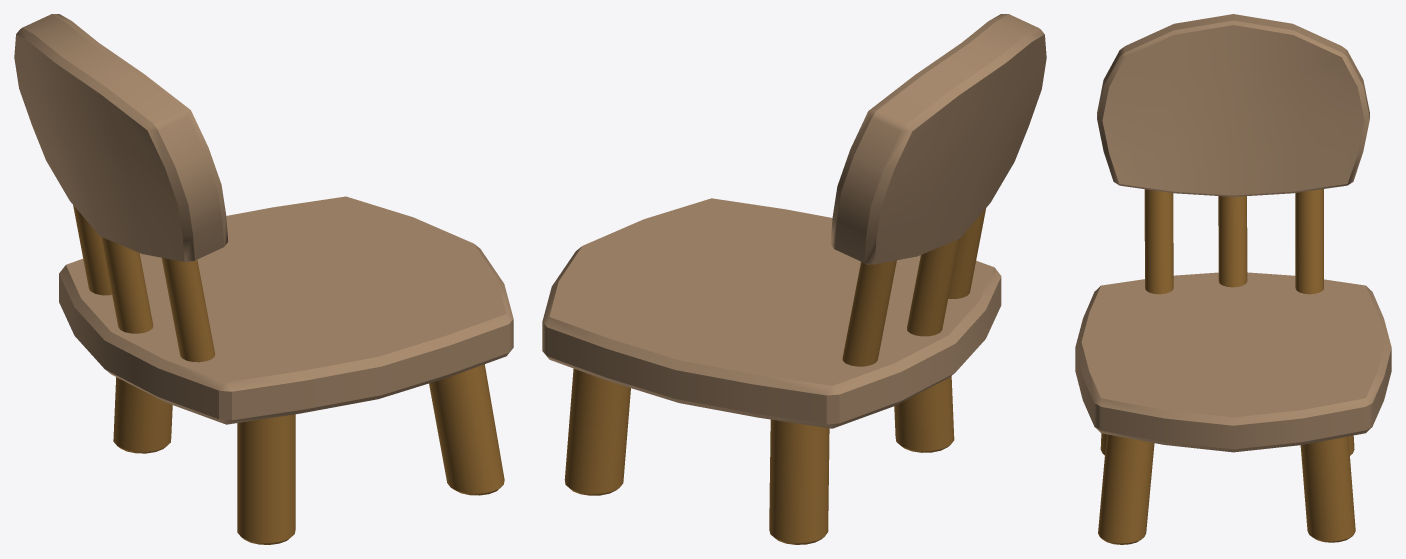
File: Chair_01.fbx
3 views of the same model, side by side, from view 1: azimuth 30°, elevation 25°; view 2: azimuth 150°, elevation 25°; view 3: azimuth 270°, elevation 25° (orthographic). The views are drawn at different scales.
Parts seen in each view (by area): view 1: Chair; view 2: Chair; view 3: Chair.
Part boxes in pixels (x1,y1,x2,y2): Chair: (14,14,513,544); Chair: (542,14,1046,544); Chair: (1075,14,1391,544).
Bounding box in the file's own units: 47.29 × 49.91 × 36.93.
